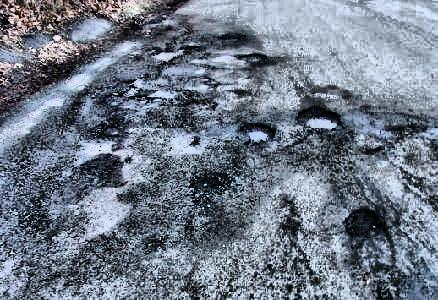pothole: (81, 153, 123, 187), (295, 103, 343, 130), (342, 207, 380, 236), (187, 171, 231, 196), (239, 119, 277, 146), (88, 117, 125, 139), (152, 48, 185, 63), (190, 77, 219, 93), (233, 51, 267, 63), (217, 31, 246, 43), (121, 84, 138, 96), (134, 94, 152, 105), (188, 134, 199, 150)
